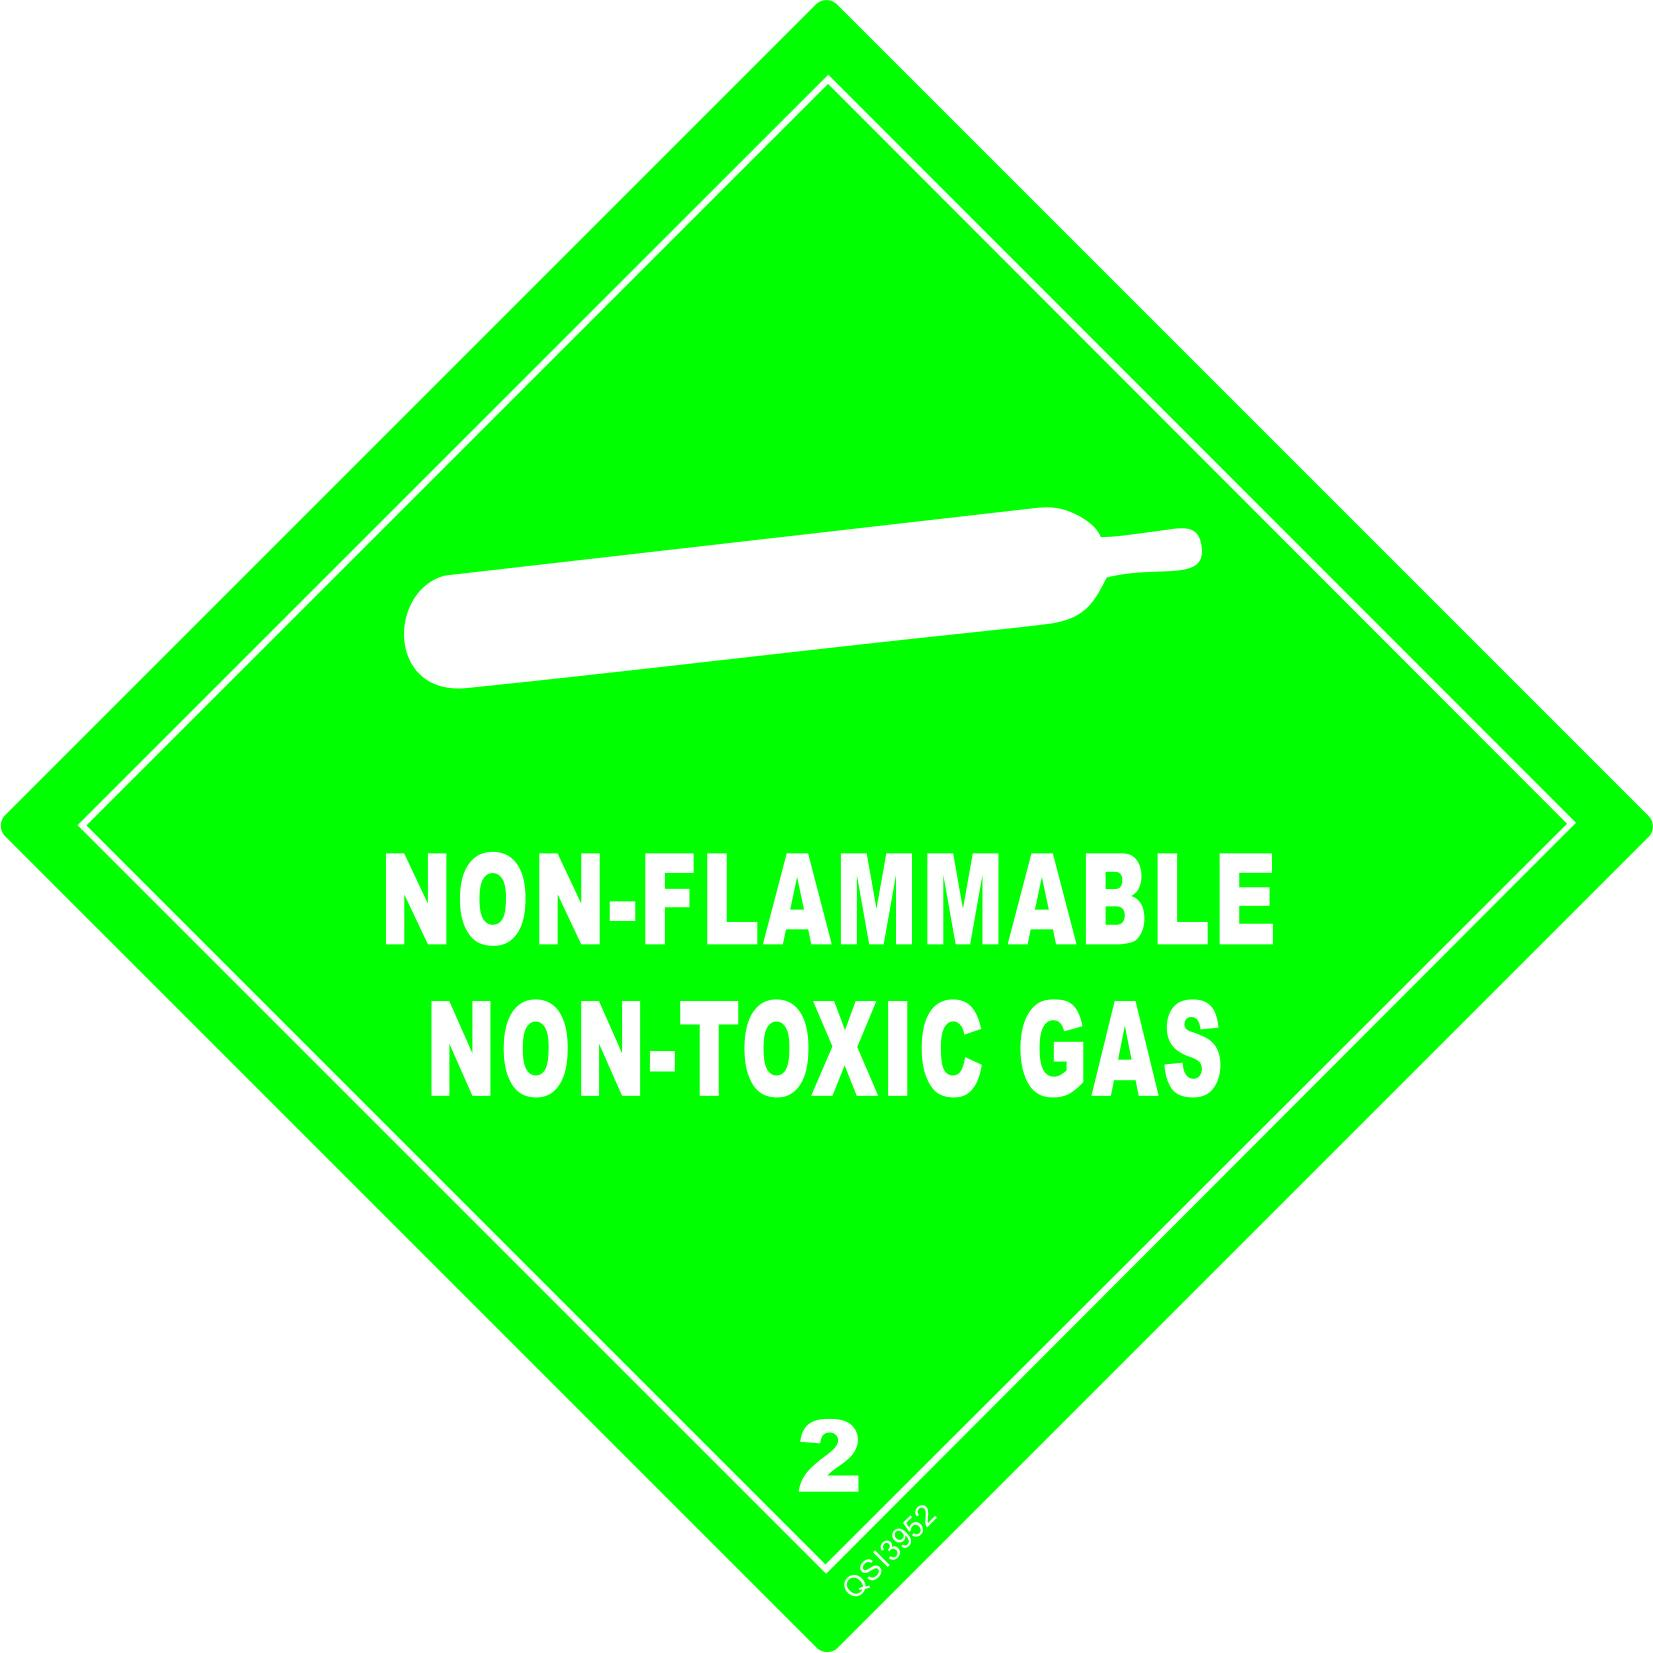non-flammable-gas: (2, 2, 1653, 1653)
